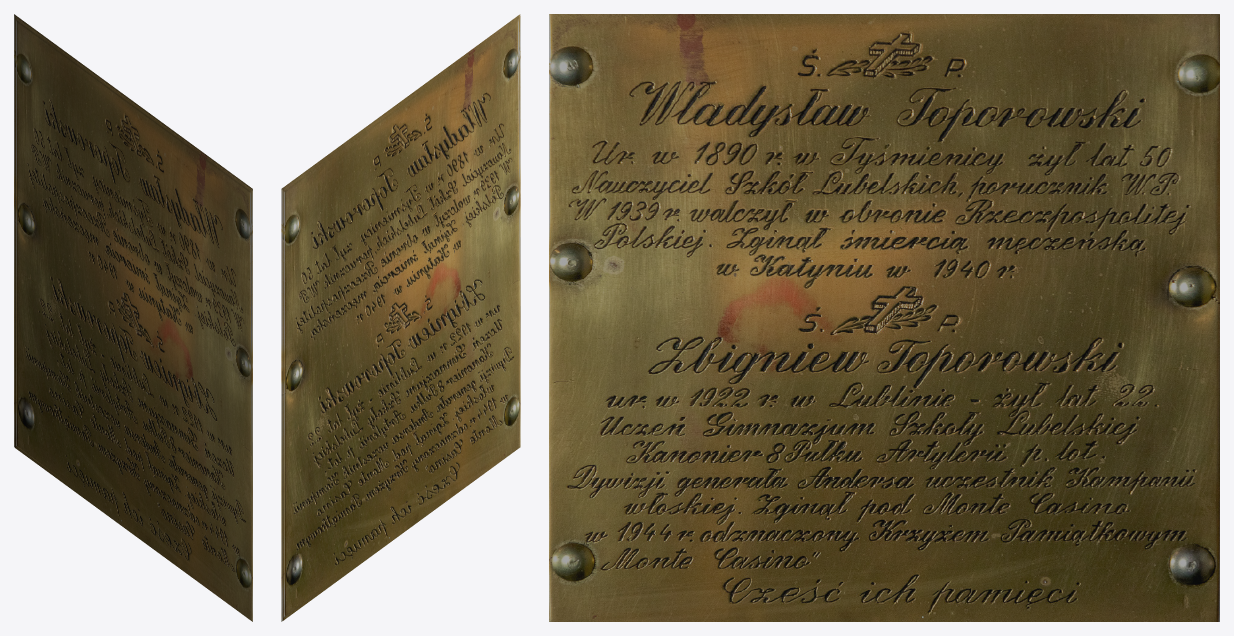
File: 54.  ŚP. WŁADYSŁAW TOPOROWSKI.glb
3 views of the same model, side by side, from view 1: azimuth 30°, elevation 25°; view 2: azimuth 150°, elevation 25°; view 3: azimuth 270°, elevation 25° (orthographic). The views are drawn at different scales.
Parts seen in each view (by area): view 1: Plane; view 2: Plane; view 3: Plane.
Boxes of the visible parts, x1=… form: Plane: x1=14, y1=14, x2=252, y2=621; Plane: x1=281, y1=14, x2=520, y2=621; Plane: x1=549, y1=14, x2=1219, y2=621.
Bounding box in the file's own units: 0.0102 × 13.2 × 13.2.
1 material, 1 textured.
